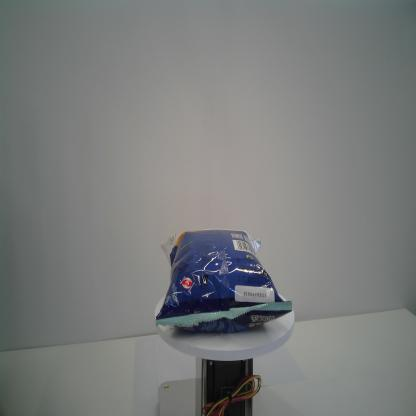Puffed Food: (155, 227, 293, 334)
